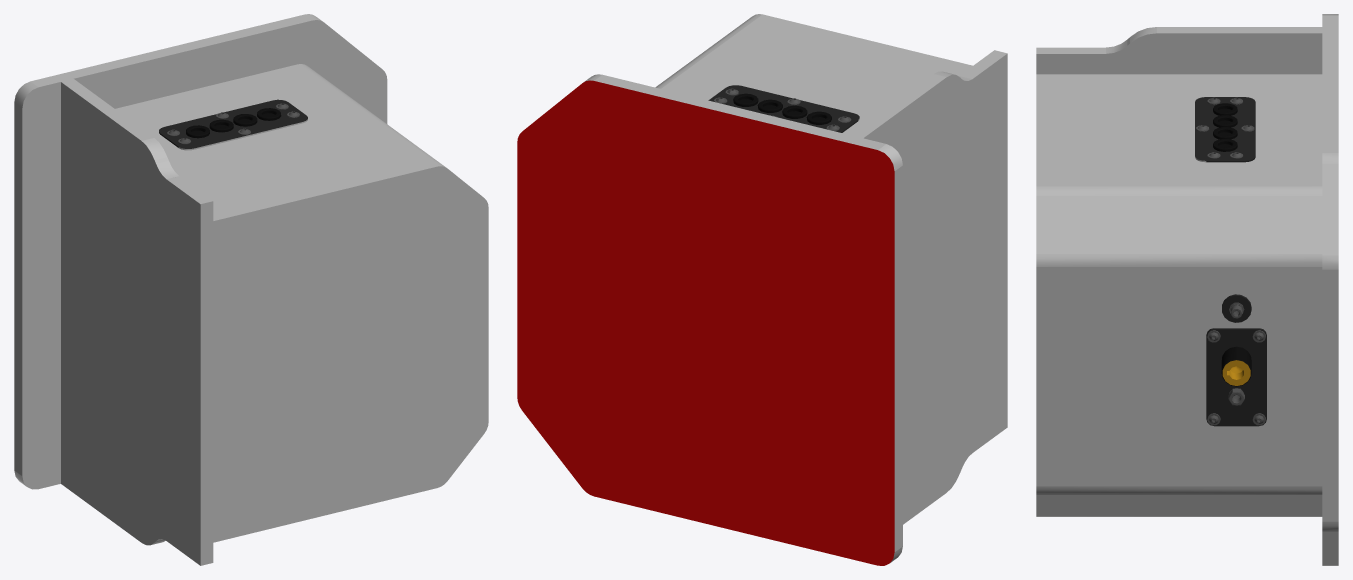
File: Idler_Base_P1.dae
3 renders of one model, left to right at view 1: azimuth 30°, elevation 25°; view 2: azimuth 150°, elevation 25°; view 3: azimuth 270°, elevation 25°, orthographic. The views are drawn at different scales.
Visible parts, largest first — view 1: Node_0000029FC342F870 (×3); view 2: Node_0000029FC342F870 (×4); view 3: Node_0000029FC342F870 (×5).
Boxes of the visible parts, x1=… form: Node_0000029FC342F870 (×3): x1=14, y1=14, x2=488, y2=565; Node_0000029FC342F870 (×4): x1=517, y1=14, x2=1007, y2=565; Node_0000029FC342F870 (×5): x1=1036, y1=14, x2=1338, y2=565.
Size of the model in its own units: 0.57 by 0.6 by 0.4.
